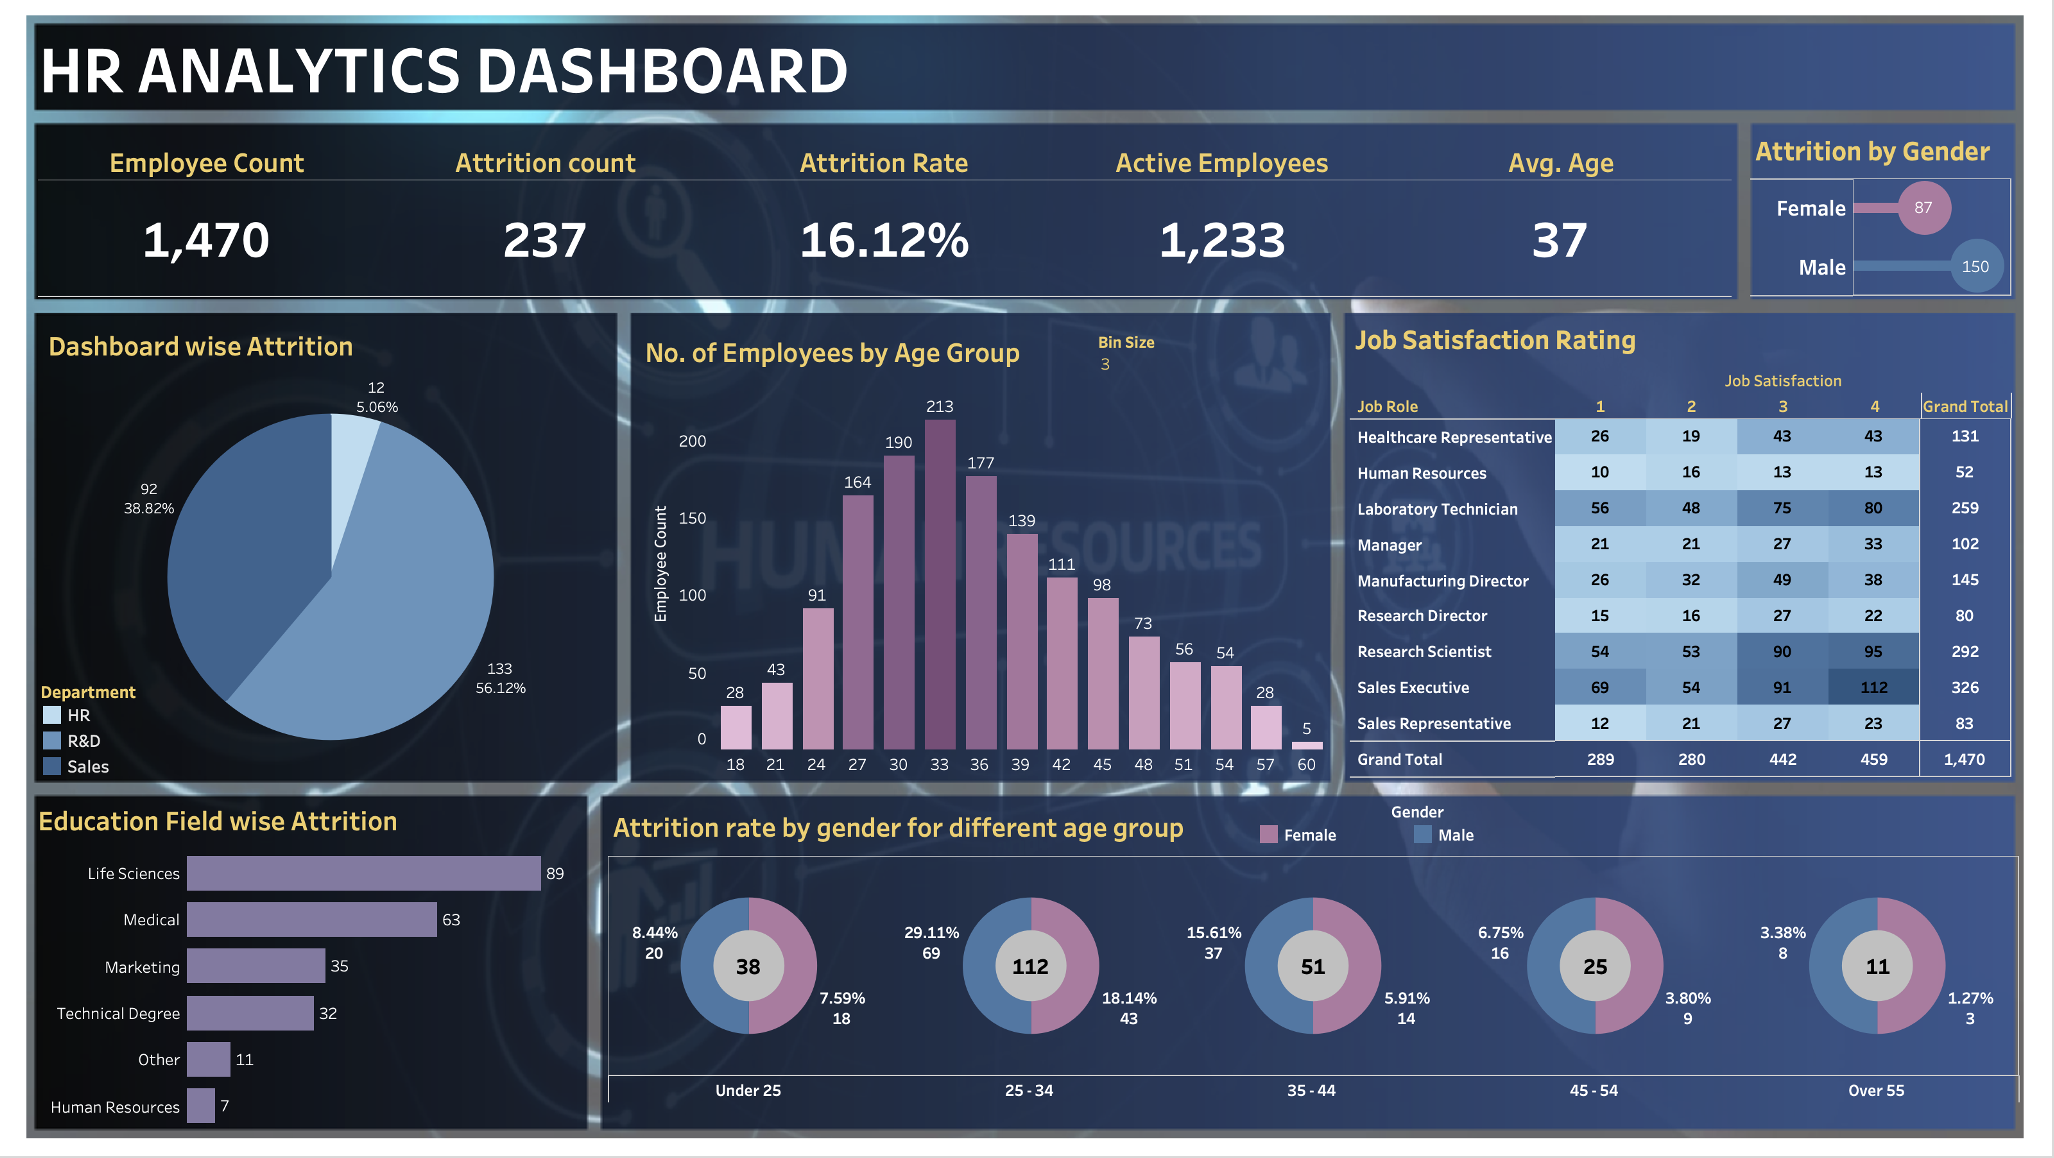

Layout of this report page (visuals, bound fields, positions):
{"tool":"tableau","page":{"name":"HR Analytics Dashboard","canvas":[1580,900],"ordinal":0},"visuals":[{"type":"image","param":"/Users/sakshichavan/Desktop/Data Visualizations projects!/HR analytics Dashboard","box":[8,8,1564,884]},{"type":"text","box":[19,21,815,63]},{"type":"worksheet","title":"Attrition by gender","mark":"Automatic","rows":["Gender"],"cols":["Calculation_1485554578794156032","Calculation_1485554578794156032"],"box":[1355,97,204,134]},{"type":"worksheet","title":"KPI","mark":"Automatic","box":[21,100,1320,132]},{"type":"worksheet","title":"Job Satisfaction Rating","mark":"Square","rows":["Job Role"],"cols":["Job Satisfaction"],"box":[1043,244,517,362]},{"type":"worksheet","title":"Dashboard wise Attrition","mark":"Pie","box":[25,249,448,358]},{"type":"worksheet","title":"No. of Employees by Age Group","mark":"Bar","rows":["Employee Count"],"cols":["Age (bin)"],"box":[490,254,536,351]},{"type":"parameter","param":"[Parameters].[Parameter 1]","box":[847,257,160,67]},{"type":"legend","title":"Dashboard wise Attrition","param":"[federated.0qsbxdv0mzpix01au753b0zfjs66].[none:Department:nk]","box":[22,528,91,78]},{"type":"worksheet","title":"Education Field wise Attrition","mark":"Automatic","rows":["Education Field"],"cols":["Calculation_1485554578794156032"],"box":[17,619,433,261]},{"type":"legend","title":"Attrition rate by gender for different age group","param":"[federated.0qsbxdv0mzpix01au753b0zfjs66].[none:Gender:nk]","box":[970,622,250,45]},{"type":"worksheet","title":"Attrition rate by gender for different age group","mark":"Pie","rows":["Calculation_1485554579319312387","Calculation_1485554579319312387"],"cols":["CF_age band"],"box":[465,624,1100,236]}]}

Visuals, with their boxes in screenshot pixels (x1, y1, x2, y2), scaled from the page's 1580x900 canvas onto the 2054x1158 screenshot:
image: box(10, 10, 2044, 1148)
text: box(25, 27, 1084, 108)
"Attrition by gender" worksheet: box(1762, 125, 2027, 297)
"KPI" worksheet: box(27, 129, 1743, 299)
"Job Satisfaction Rating" worksheet (Square marks): box(1356, 314, 2028, 780)
"Dashboard wise Attrition" worksheet (Pie marks): box(32, 320, 615, 781)
"No. of Employees by Age Group" worksheet (Bar marks): box(637, 327, 1334, 778)
parameter: box(1101, 331, 1309, 417)
"Dashboard wise Attrition" legend: box(29, 679, 147, 780)
"Education Field wise Attrition" worksheet: box(22, 796, 585, 1132)
"Attrition rate by gender for different age group" legend: box(1261, 800, 1586, 858)
"Attrition rate by gender for different age group" worksheet (Pie marks): box(604, 803, 2034, 1107)
